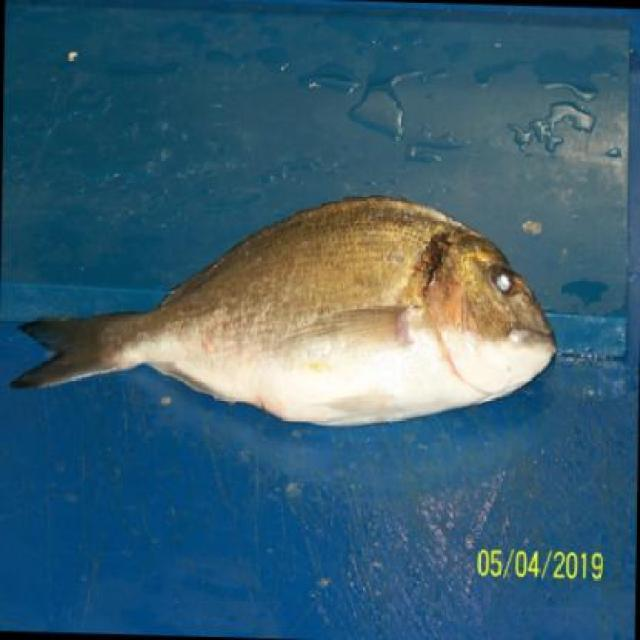Healthy Fish: (13, 191, 568, 435)
